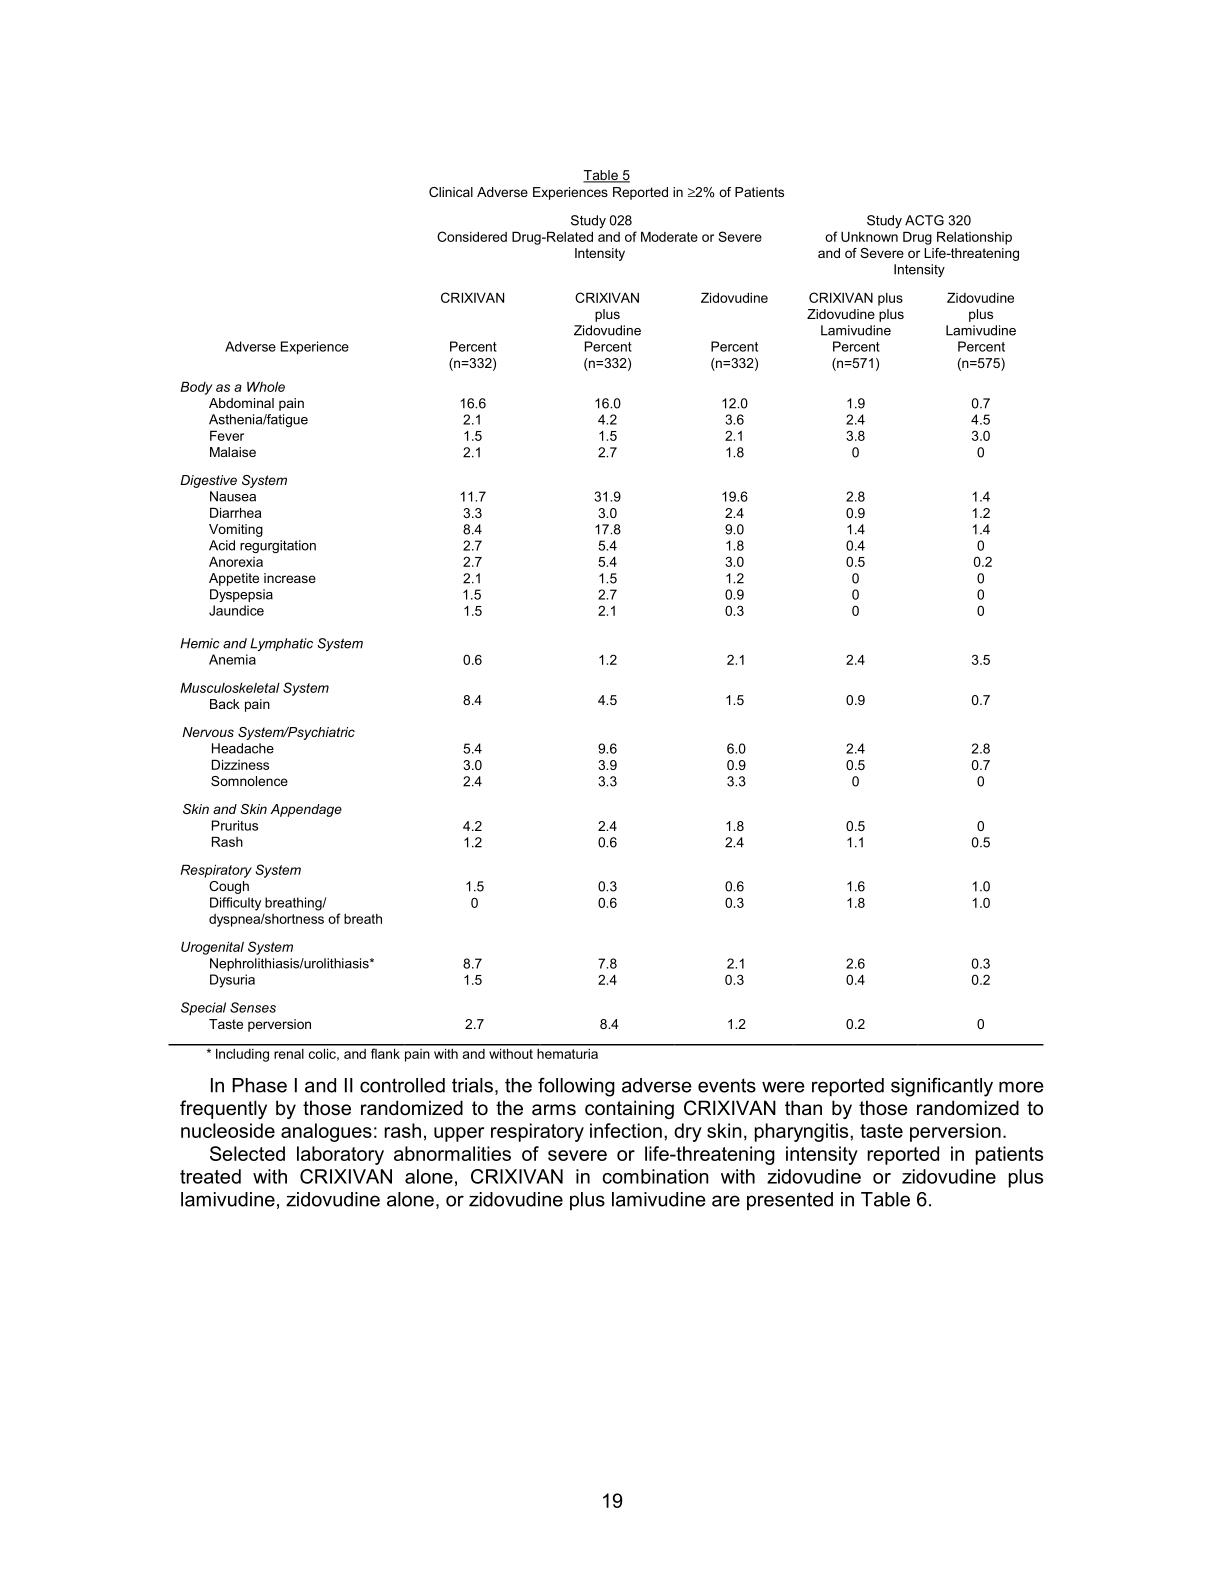nolines: (174, 208, 1021, 1036)
